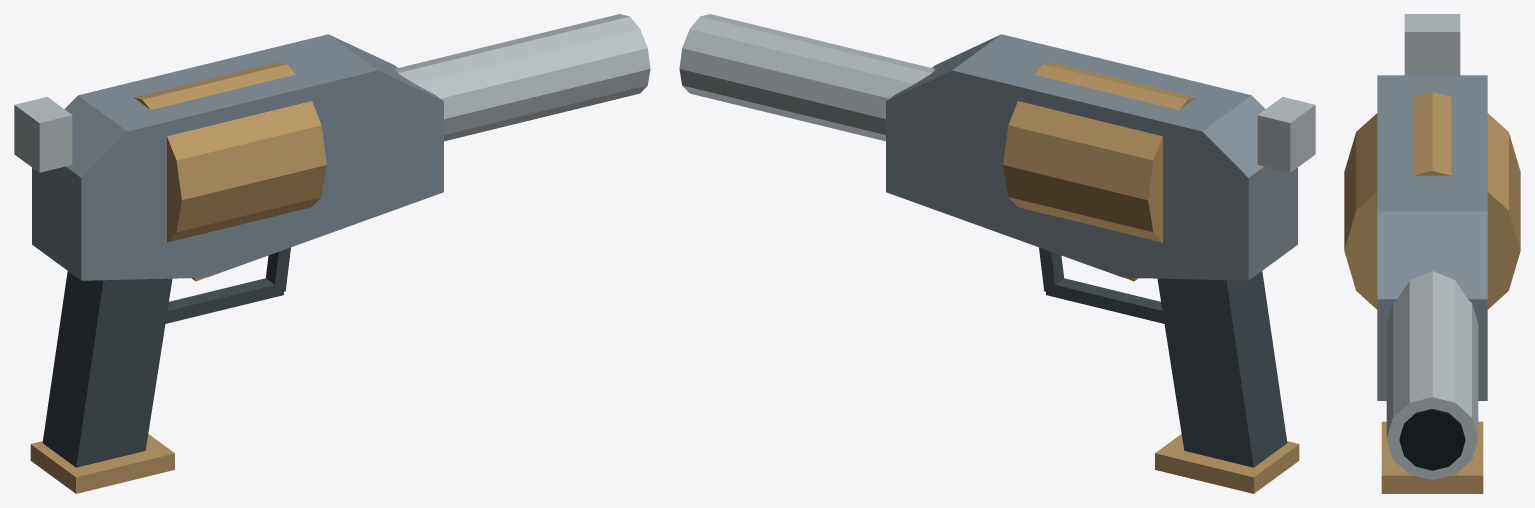
File: w02-ossuary.glb
The picture shows the model from 3 angles, left to right: view 1: azimuth 30°, elevation 25°; view 2: azimuth 150°, elevation 25°; view 3: azimuth 270°, elevation 25°; orthographic projection. The views are drawn at different scales.
Visible parts, largest first — view 1: w02-ossuary__receiver, w02-ossuary__revolver_cylinder, w02-ossuary__grip, w02-ossuary__barrel, w02-ossuary__magazine_toe, w02-ossuary__hammer, w02-ossuary__guard_bottom, w02-ossuary__guard_front; view 2: w02-ossuary__receiver, w02-ossuary__revolver_cylinder, w02-ossuary__grip, w02-ossuary__barrel, w02-ossuary__magazine_toe, w02-ossuary__hammer, w02-ossuary__guard_bottom, w02-ossuary__guard_front; view 3: w02-ossuary__receiver, w02-ossuary__barrel, w02-ossuary__revolver_cylinder, w02-ossuary__hammer, w02-ossuary__barrel_bore, w02-ossuary__magazine_toe.
Part boxes in pixels (left/top/right/bottom): w02-ossuary__receiver: left=32, top=34, right=443, bottom=280; w02-ossuary__revolver_cylinder: left=134, top=62, right=326, bottom=242; w02-ossuary__grip: left=42, top=271, right=172, bottom=467; w02-ossuary__barrel: left=395, top=14, right=650, bottom=141; w02-ossuary__magazine_toe: left=30, top=434, right=174, bottom=493; w02-ossuary__hammer: left=14, top=97, right=72, bottom=172; w02-ossuary__guard_bottom: left=165, top=278, right=283, bottom=323; w02-ossuary__guard_front: left=266, top=247, right=290, bottom=291; w02-ossuary__receiver: left=886, top=34, right=1297, bottom=280; w02-ossuary__revolver_cylinder: left=1003, top=62, right=1195, bottom=242; w02-ossuary__grip: left=1157, top=271, right=1287, bottom=467; w02-ossuary__barrel: left=679, top=14, right=934, bottom=141; w02-ossuary__magazine_toe: left=1155, top=434, right=1299, bottom=493; w02-ossuary__hammer: left=1257, top=97, right=1315, bottom=172; w02-ossuary__guard_bottom: left=1046, top=278, right=1164, bottom=323; w02-ossuary__guard_front: left=1039, top=247, right=1063, bottom=291; w02-ossuary__receiver: left=1377, top=75, right=1487, bottom=400; w02-ossuary__barrel: left=1386, top=271, right=1478, bottom=479; w02-ossuary__revolver_cylinder: left=1344, top=92, right=1520, bottom=309; w02-ossuary__hammer: left=1404, top=14, right=1460, bottom=75; w02-ossuary__barrel_bore: left=1399, top=409, right=1465, bottom=470; w02-ossuary__magazine_toe: left=1381, top=421, right=1483, bottom=493.
Size of the model in its own units: 0.4605 by 0.268 by 0.104.
